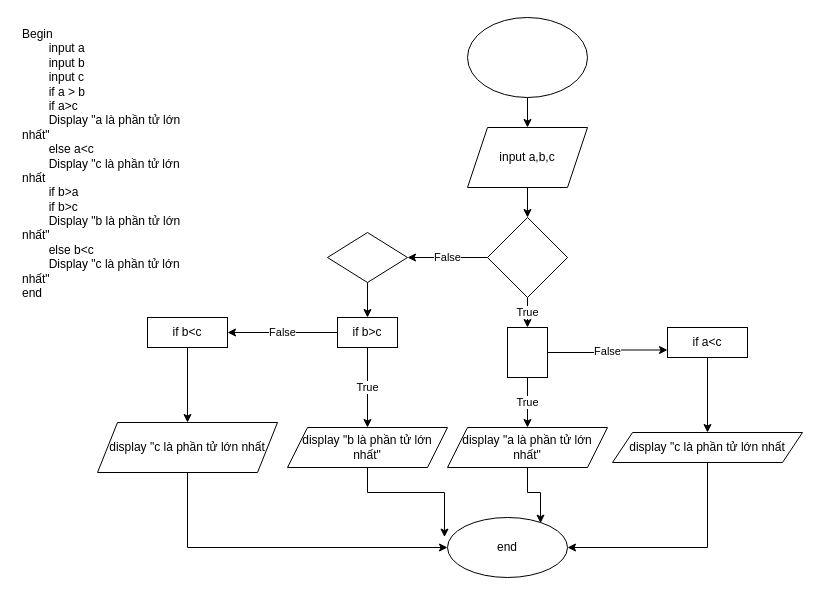
This 820x595 diagram has some shape labels left out. Here are the shapes that lost their labels. From the top down, the centre of each, then its label:
[527,57]: begin
[367,257]: if b>a
[527,257]: if a>b
[527,352]: if a>c
